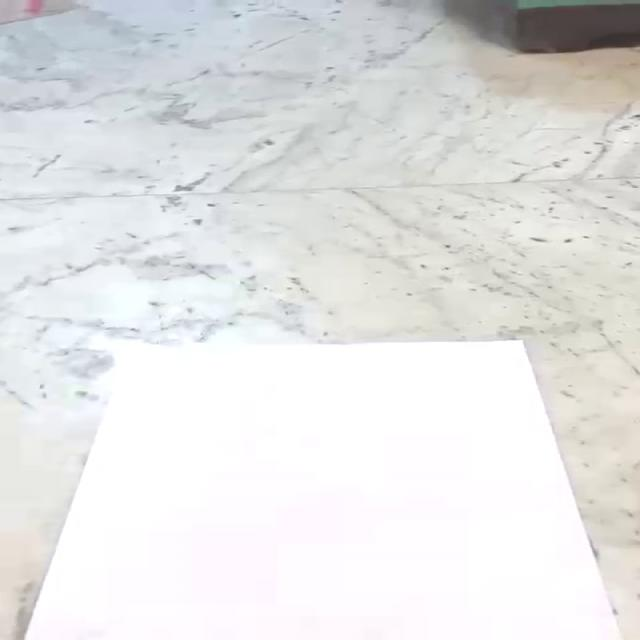road: (24, 342, 621, 640)
